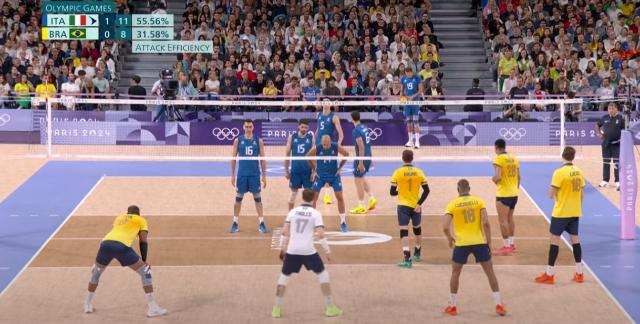Levantador: (392, 150, 426, 270), (350, 110, 374, 214)
Libero: (281, 186, 323, 304)
bola: (399, 97, 408, 107)
